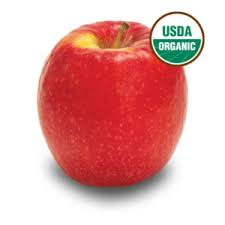apple: (35, 22, 189, 187)
